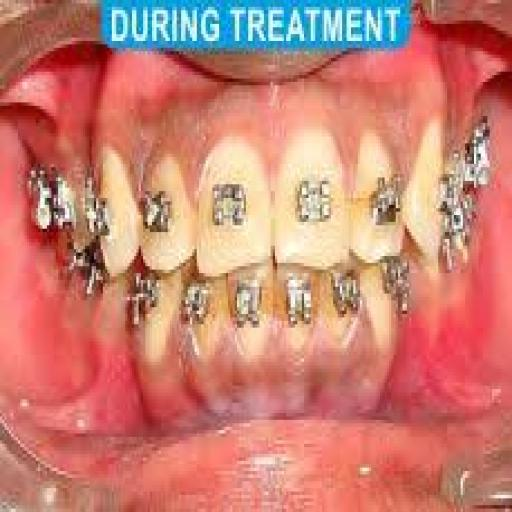correct_brace: (292, 166, 336, 232), (365, 170, 409, 234), (208, 176, 249, 233), (430, 163, 464, 227), (140, 184, 174, 240), (86, 184, 109, 252)
incorrect_brace: (349, 133, 412, 282), (133, 154, 197, 274)
